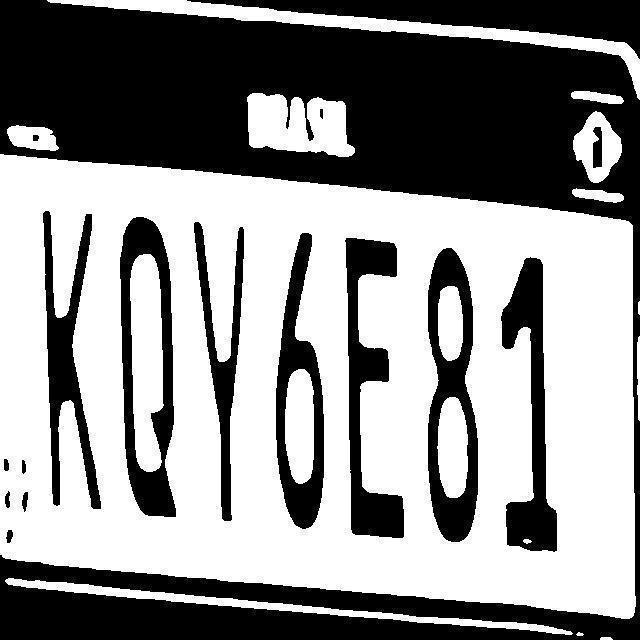1: (498, 236, 572, 558)
6: (274, 229, 342, 532)
8: (423, 249, 488, 548)
e: (341, 220, 412, 544)
k: (33, 209, 112, 522)
q: (110, 216, 183, 524)
y: (193, 219, 275, 526)
